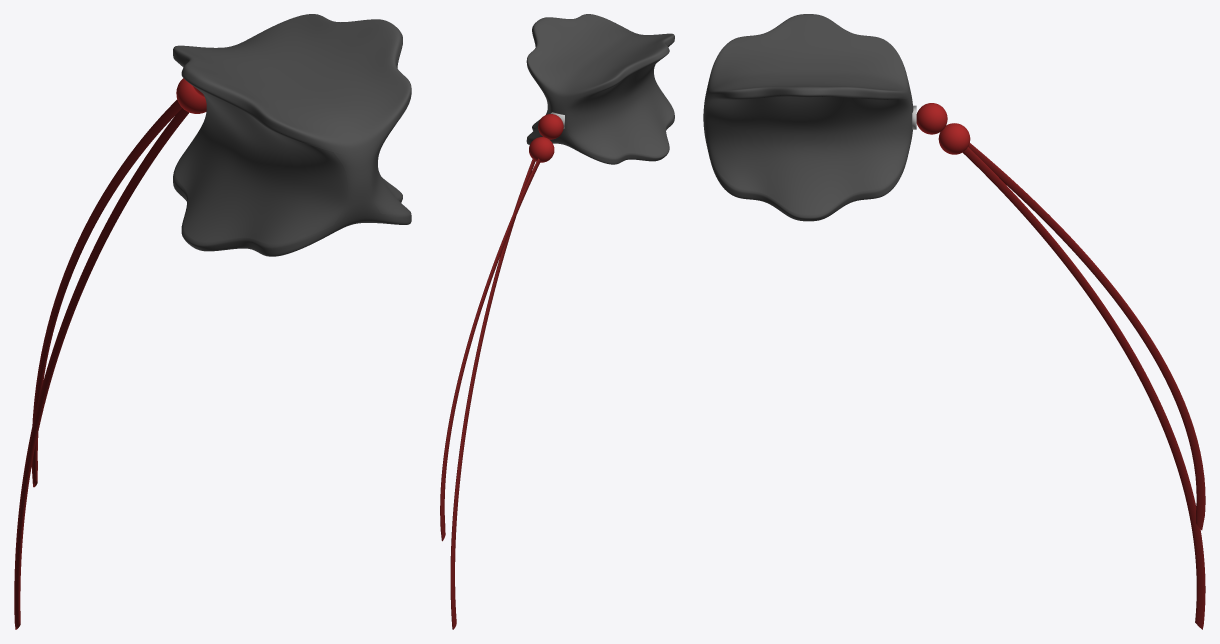
The picture shows the model from 3 angles, left to right: view 1: azimuth 30°, elevation 25°; view 2: azimuth 150°, elevation 25°; view 3: azimuth 270°, elevation 25°; orthographic projection. The views are drawn at different scales.
Visible parts, largest first — view 1: Cube, Cube.005, NurbsCurve, NurbsCurve.001, Cube.004, Sphere.001; view 2: Cube, Cube.005, NurbsCurve, NurbsCurve.001, Sphere, Sphere.001, Cube.004; view 3: Cube.005, Cube, NurbsCurve, NurbsCurve.001, Sphere, Sphere.001.
Boxes of the visible parts, x1,y1,x2,y2 form: Cube: [173, 14, 411, 256]; Cube.005: [175, 63, 408, 243]; NurbsCurve: [14, 108, 188, 629]; NurbsCurve.001: [31, 99, 182, 487]; Cube.004: [334, 141, 380, 224]; Sphere.001: [176, 78, 206, 113]; Cube: [526, 14, 674, 164]; Cube.005: [528, 44, 673, 156]; NurbsCurve: [450, 158, 535, 629]; NurbsCurve.001: [440, 158, 540, 541]; Sphere: [538, 114, 563, 139]; Sphere.001: [529, 137, 554, 162]; Cube.004: [546, 93, 574, 144]; Cube.005: [705, 96, 911, 214]; Cube: [706, 14, 910, 221]; NurbsCurve: [962, 147, 1205, 629]; NurbsCurve.001: [968, 143, 1205, 530]; Sphere: [916, 103, 947, 134]; Sphere.001: [938, 123, 970, 154].
Size of the model in its own units: 1.84 by 6.43 by 4.99.
